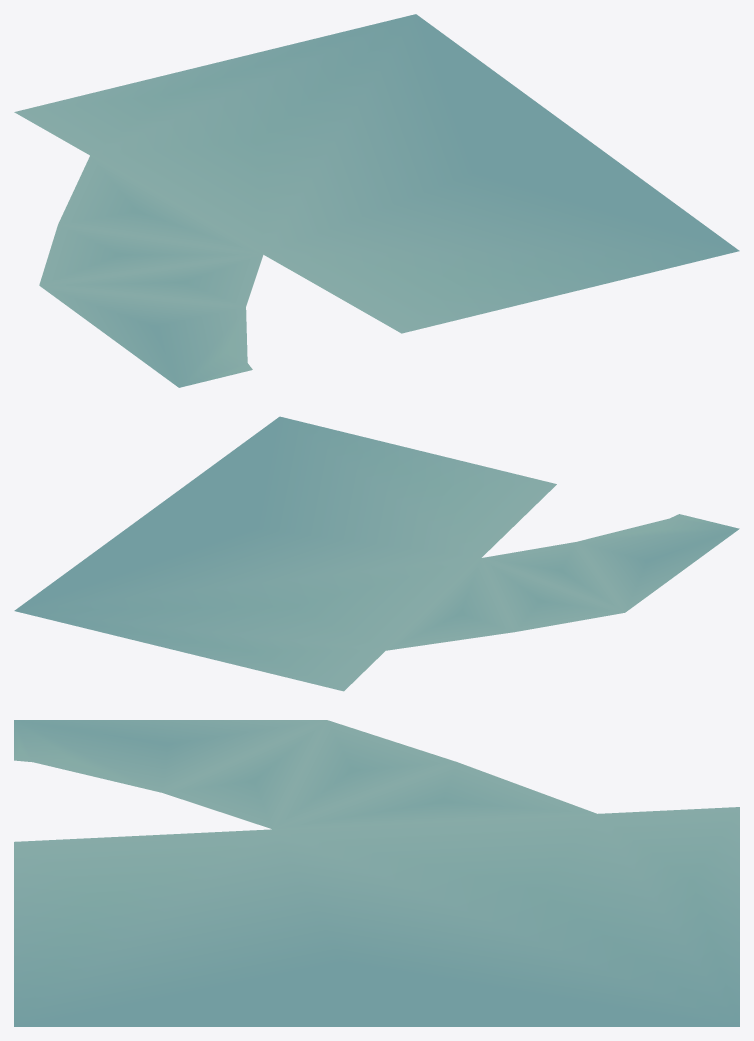
File: water-24-6.glb
3 renders of one model, top to bottom at view 1: azimuth 30°, elevation 25°; view 2: azimuth 150°, elevation 25°; view 3: azimuth 270°, elevation 25°, orthographic. The views are drawn at different scales.
Size of the model in its own units: 16 by 0 by 16.
